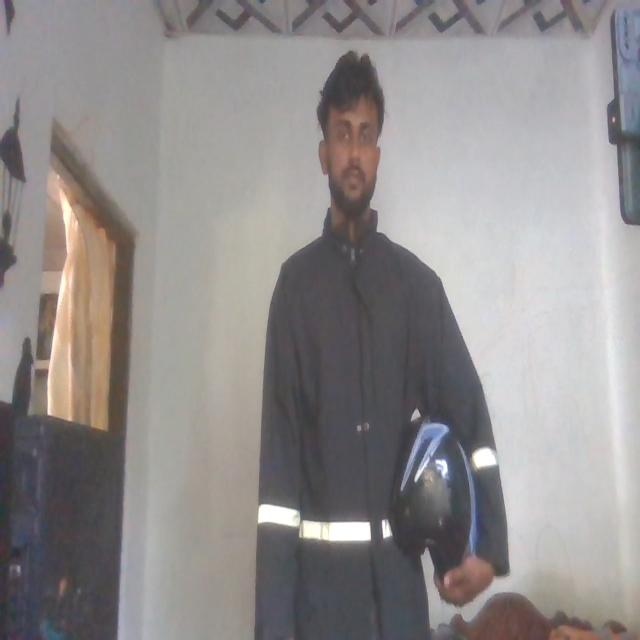Jacket_Wearer: (255, 196, 502, 626)
Person: (254, 49, 502, 640)
